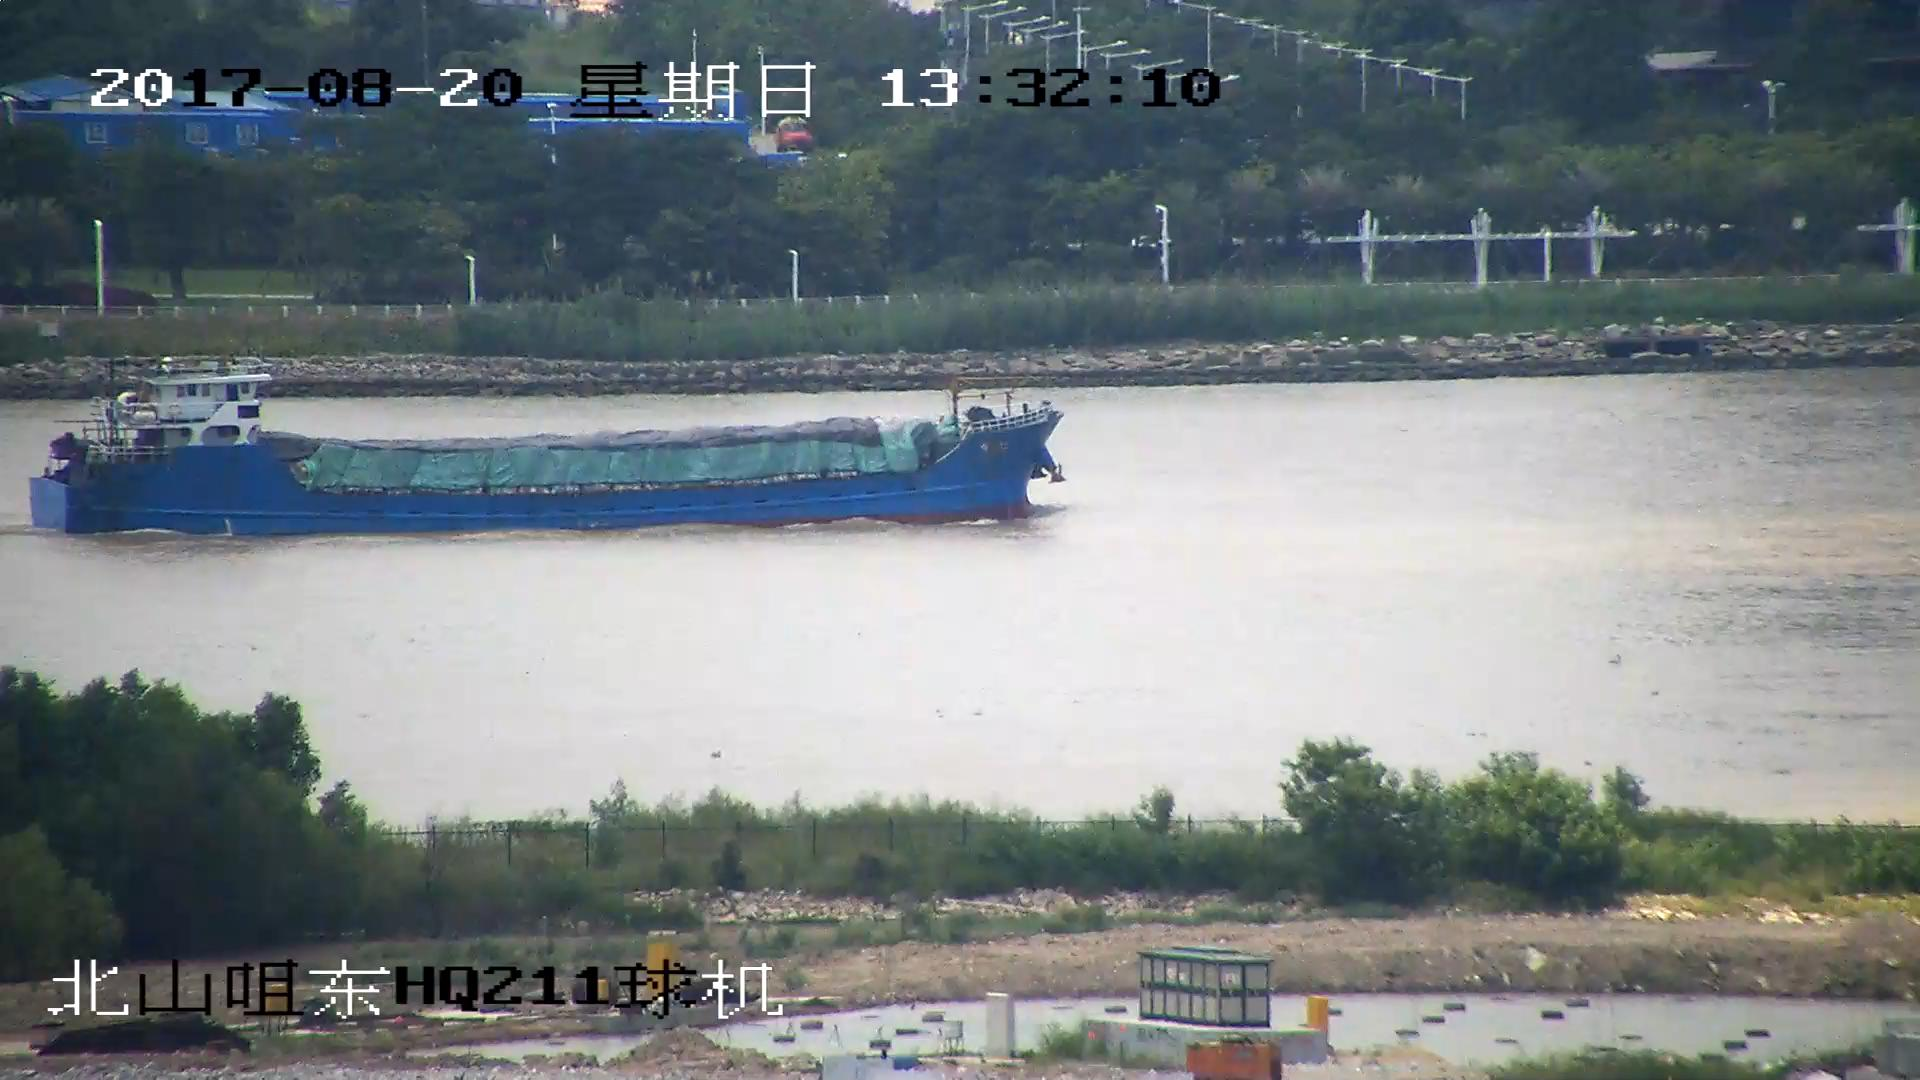general cargo ship: (39, 362, 1067, 534)
